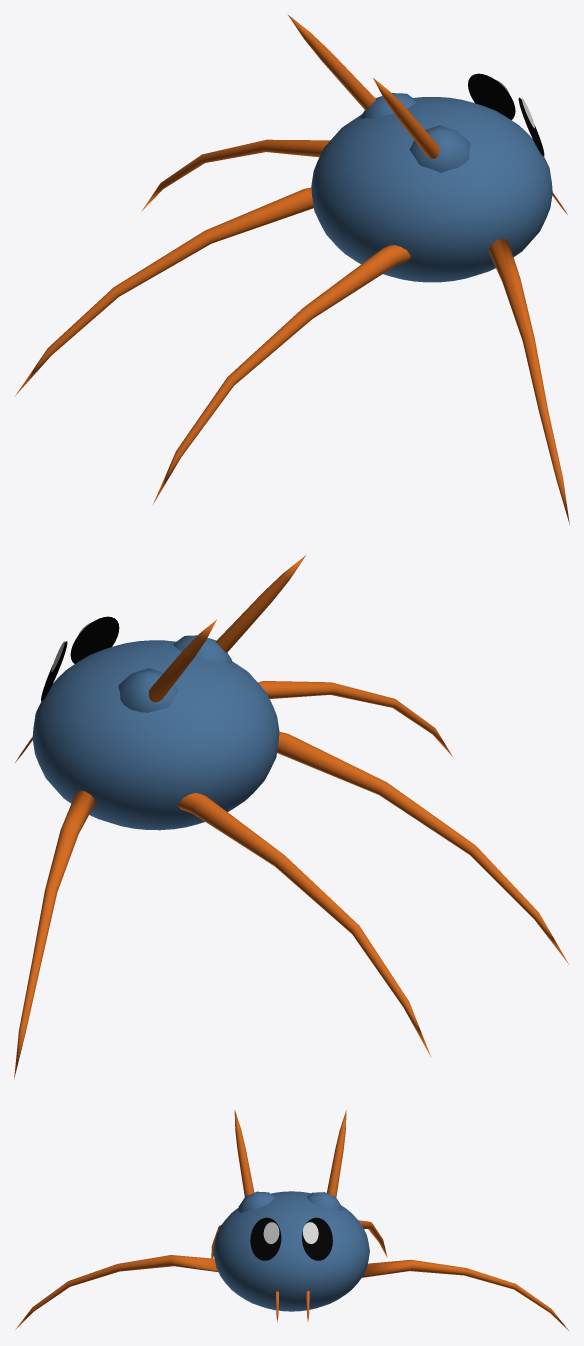
File: pondBoiMove.fbx
The picture shows the model from 3 angles, top to bottom: view 1: azimuth 30°, elevation 25°; view 2: azimuth 150°, elevation 25°; view 3: azimuth 270°, elevation 25°; orthographic projection. The views are drawn at different scales.
Visible parts, largest first — view 1: Sphere, Cylinder.002, Cylinder.003, Cylinder.006, Cylinder, Cylinder.007, Cylinder.001, Circle.001; view 2: Sphere, Cylinder.002, Cylinder.003, Cylinder.007, Cylinder.001, Cylinder.006, Cylinder, Circle; view 3: Sphere, Cylinder.007, Cylinder.006, Cylinder, Cylinder.001, Circle, Circle.001.
Boxes of the visible parts, bbox=[...] form: Sphere: bbox=[311, 97, 552, 282]; Cylinder.002: bbox=[153, 245, 410, 504]; Cylinder.003: bbox=[14, 187, 313, 396]; Cylinder.006: bbox=[489, 238, 569, 524]; Cylinder: bbox=[373, 78, 470, 172]; Cylinder.007: bbox=[141, 139, 330, 211]; Cylinder.001: bbox=[287, 14, 416, 118]; Circle.001: bbox=[468, 73, 515, 119]; Sphere: bbox=[32, 640, 279, 830]; Cylinder.002: bbox=[277, 732, 568, 963]; Cylinder.003: bbox=[178, 793, 431, 1057]; Cylinder.007: bbox=[14, 790, 95, 1079]; Cylinder.001: bbox=[118, 619, 216, 712]; Cylinder.006: bbox=[258, 681, 452, 756]; Cylinder: bbox=[173, 555, 305, 663]; Circle: bbox=[70, 616, 119, 663]; Sphere: bbox=[213, 1191, 369, 1311]; Cylinder.007: bbox=[362, 1259, 569, 1331]; Cylinder.006: bbox=[15, 1255, 218, 1329]; Cylinder: bbox=[234, 1110, 274, 1212]; Cylinder.001: bbox=[307, 1110, 346, 1210]; Circle: bbox=[250, 1217, 281, 1260]; Circle.001: bbox=[302, 1217, 332, 1260].
Bounding box in the file's own units: 291 × 211 × 461.
